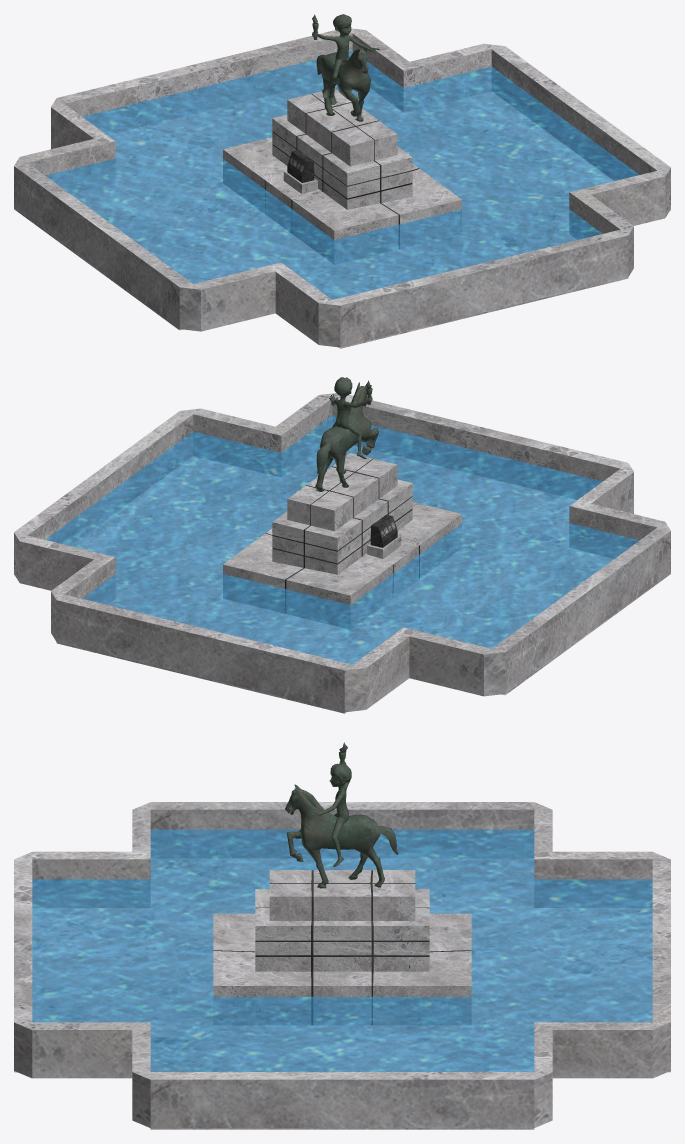
The model's file is Woncheon_statue.fbx.
The picture shows the model from 3 angles, top to bottom: view 1: azimuth 30°, elevation 25°; view 2: azimuth 150°, elevation 25°; view 3: azimuth 270°, elevation 25°; orthographic projection. The views are drawn at different scales.
Visible parts, largest first — view 1: polySurface13; view 2: polySurface13; view 3: polySurface13.
Boxes of the visible parts, x1=… form: polySurface13: x1=14, y1=14, x2=670, y2=348; polySurface13: x1=14, y1=377, x2=670, y2=713; polySurface13: x1=14, y1=742, x2=670, y2=1129.
Bounding box in the file's own units: 1.04 × 0.4074 × 1.04.
3 materials, 3 textured.
